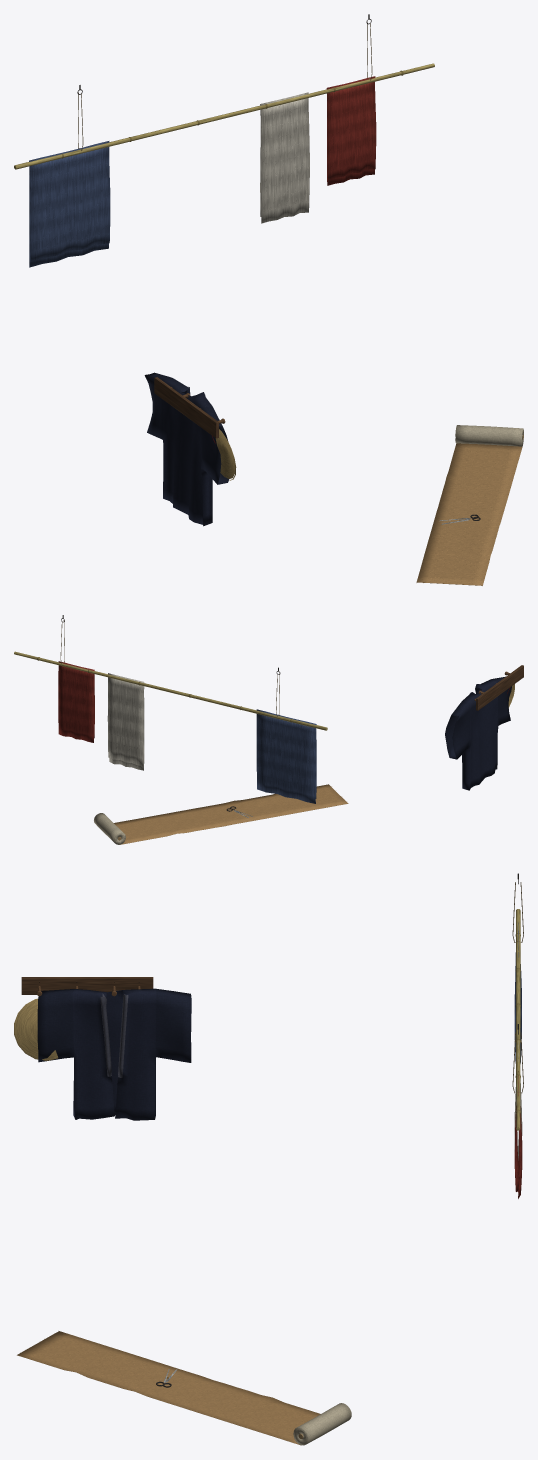
File: upper-cloth-v2-sewn.glb
3 views of the same model, one above another, from view 1: azimuth 30°, elevation 25°; view 2: azimuth 150°, elevation 25°; view 3: azimuth 270°, elevation 25° (orthographic). The views are drawn at different scales.
Parts seen in each view (by area): view 1: Bolt_unrolled, Laundry_fold_0, Haori_connected, Laundry_fold_1, Laundry_fold_2, UD_DryingPole_Cloths_v2, UD_CoatRail_Haori_v2, Bolt_cotton_roll; view 2: Bolt_unrolled, Laundry_fold_0, Haori_connected, Laundry_fold_1, Laundry_fold_2, UD_DryingPole_Cloths_v2, UD_CoatRail_Haori_v2, Bolt_cotton_roll; view 3: Haori_connected, Bolt_unrolled, UD_CoatRail_Haori_v2, UD_DryingPole_Cloths_v2, Bolt_cotton_roll.
Part boxes in pixels (<box>): Bolt_unrolled: <box>416,443,522,585</box>; Laundry_fold_0: <box>29,141,110,267</box>; Haori_connected: <box>144,372,229,526</box>; Laundry_fold_1: <box>260,92,309,223</box>; Laundry_fold_2: <box>326,76,376,185</box>; UD_DryingPole_Cloths_v2: <box>14,14,434,169</box>; UD_CoatRail_Haori_v2: <box>154,377,236,480</box>; Bolt_cotton_roll: <box>455,425,523,446</box>; Bolt_unrolled: <box>114,784,348,844</box>; Laundry_fold_0: <box>256,709,316,803</box>; Haori_connected: <box>445,676,511,790</box>; Laundry_fold_1: <box>107,673,144,770</box>; Laundry_fold_2: <box>58,661,94,742</box>; UD_DryingPole_Cloths_v2: <box>14,615,327,730</box>; UD_CoatRail_Haori_v2: <box>474,665,523,710</box>; Bolt_cotton_roll: <box>94,813,125,844</box>; Haori_connected: <box>37,988,191,1120</box>; Bolt_unrolled: <box>17,1331,320,1445</box>; UD_CoatRail_Haori_v2: <box>14,977,153,1060</box>; UD_DryingPole_Cloths_v2: <box>512,873,523,1130</box>; Bolt_cotton_roll: <box>293,1403,351,1445</box>.
Bounding box in the file's own units: 3.12 × 2.45 × 2.87.
10 materials, 9 textured.
